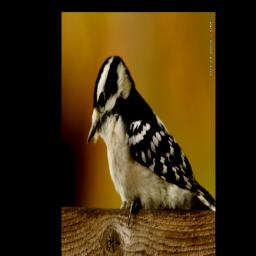Woodpecker: (86, 53, 215, 223)
